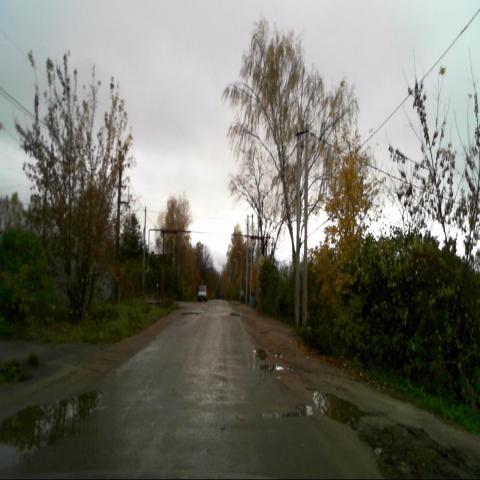2_1: (257, 252, 265, 268)
